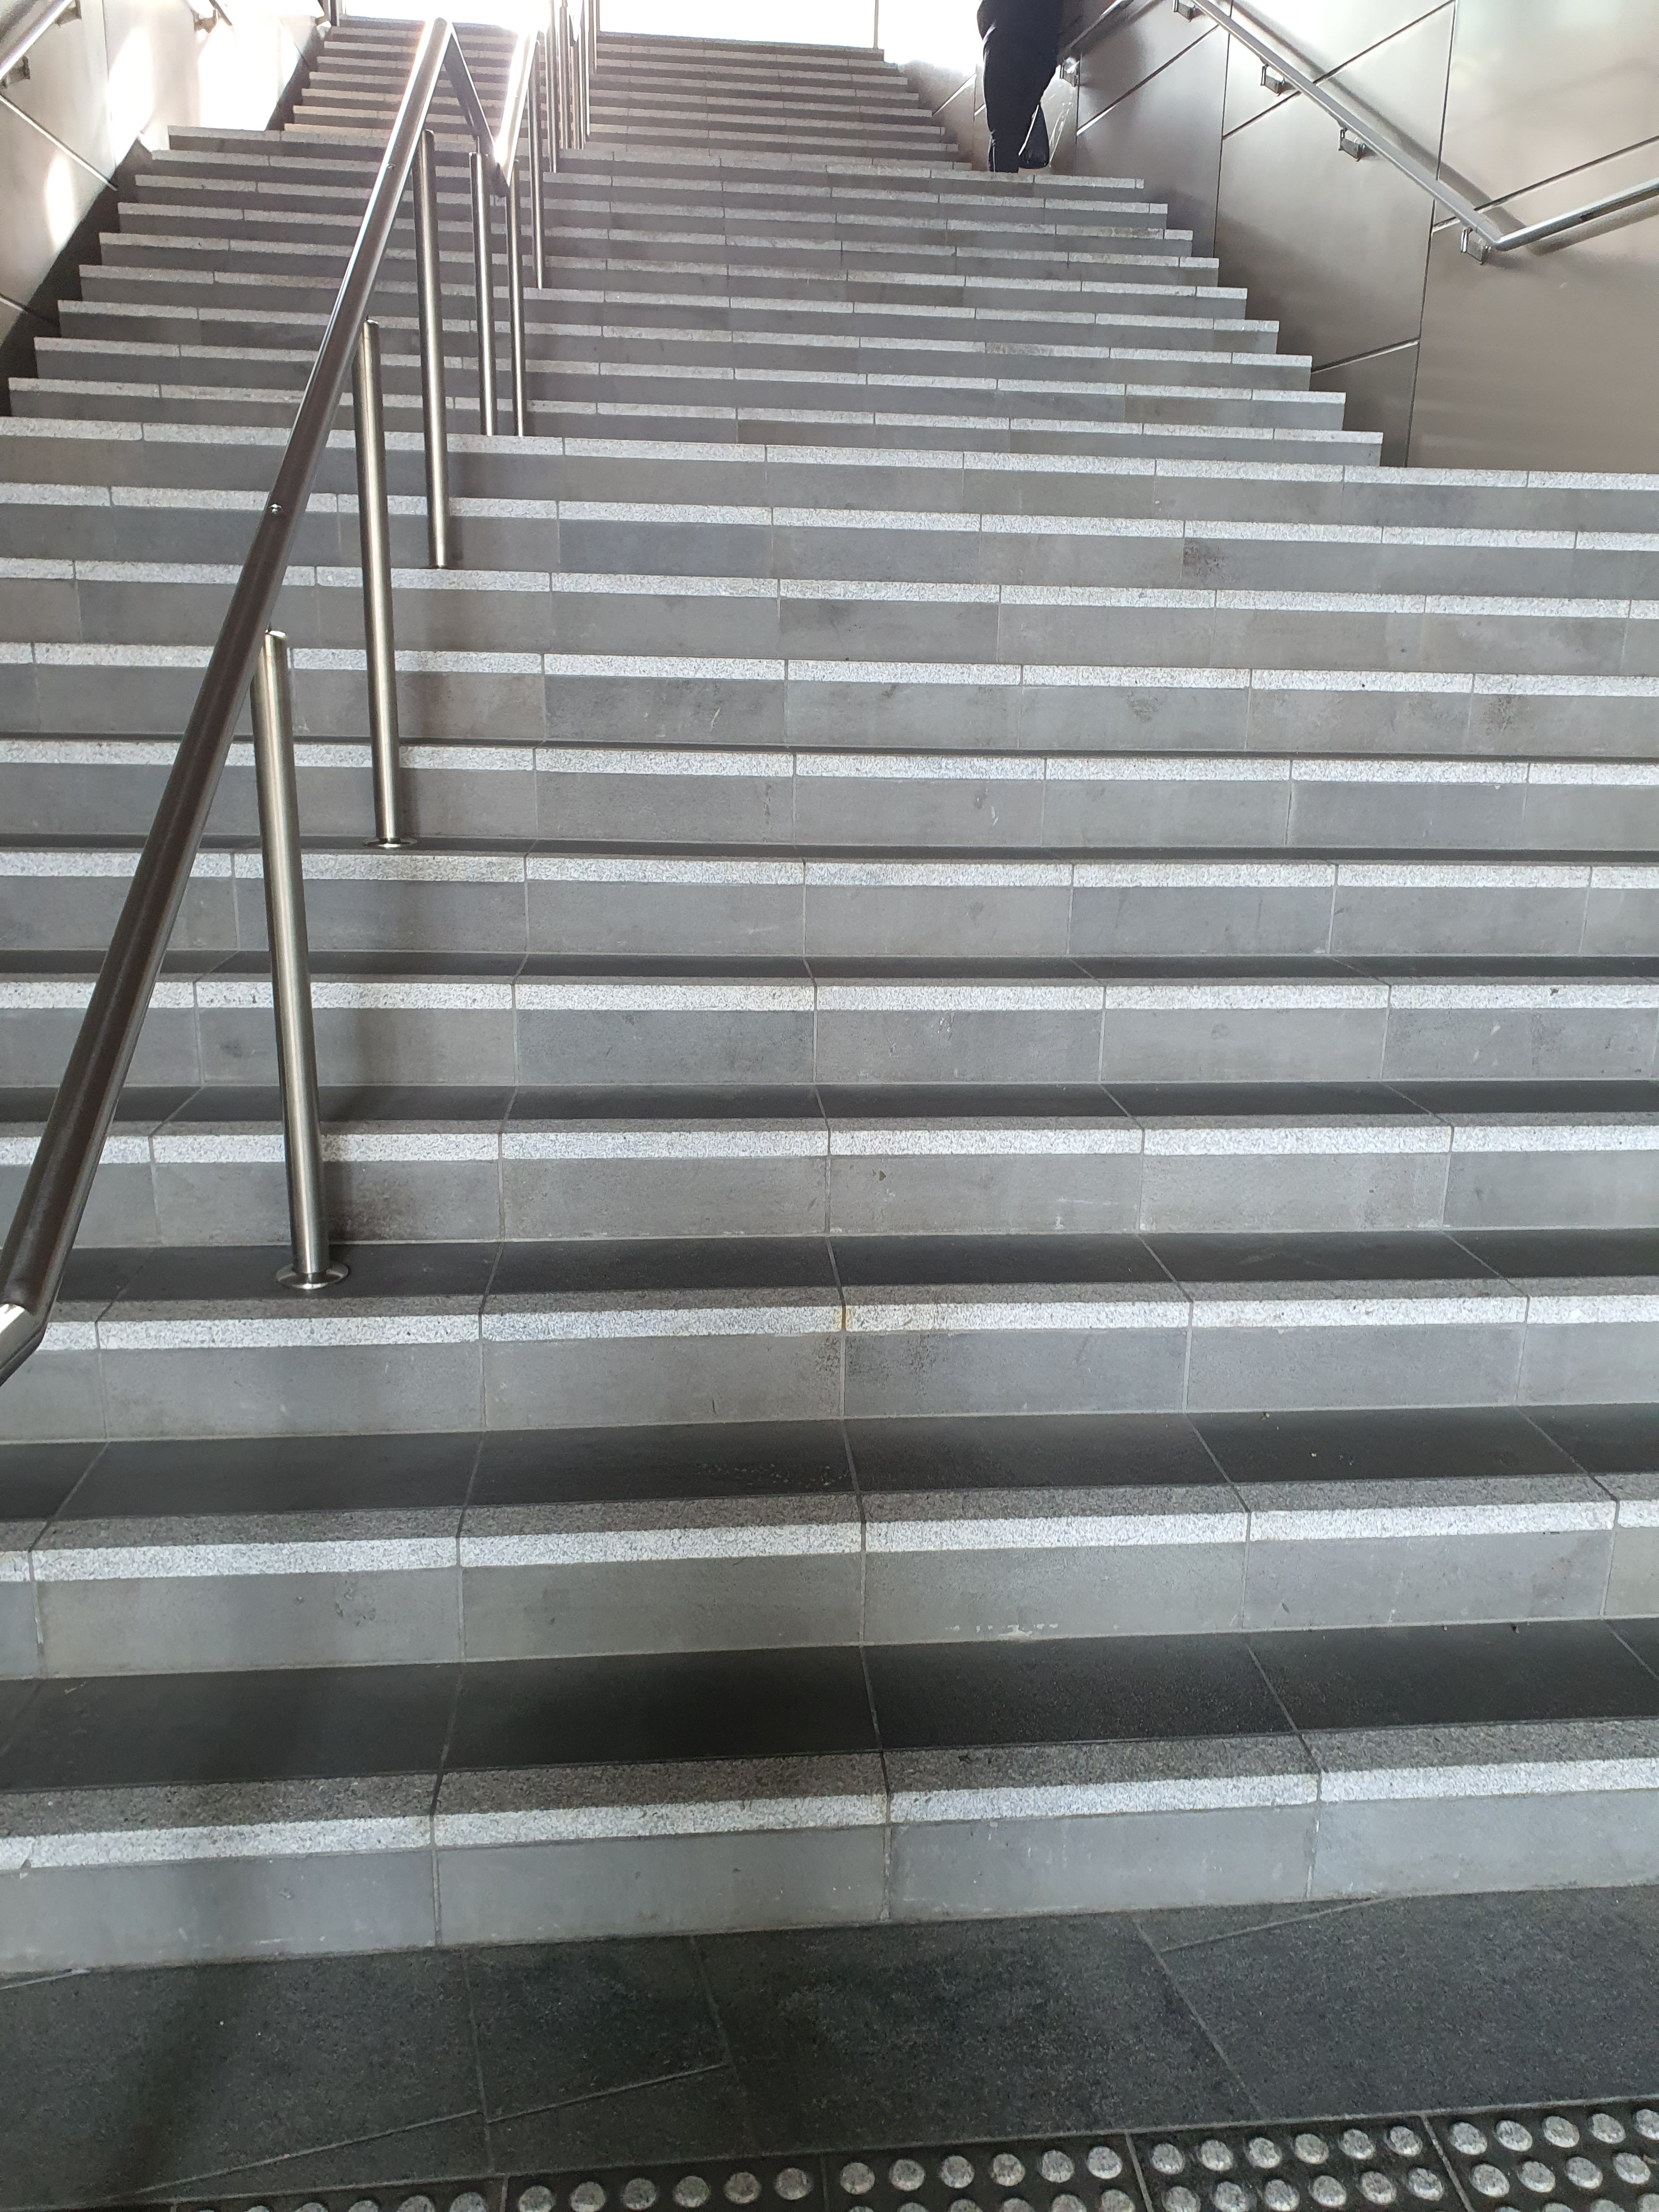upstairs: (350, 1015, 1659, 2087)
